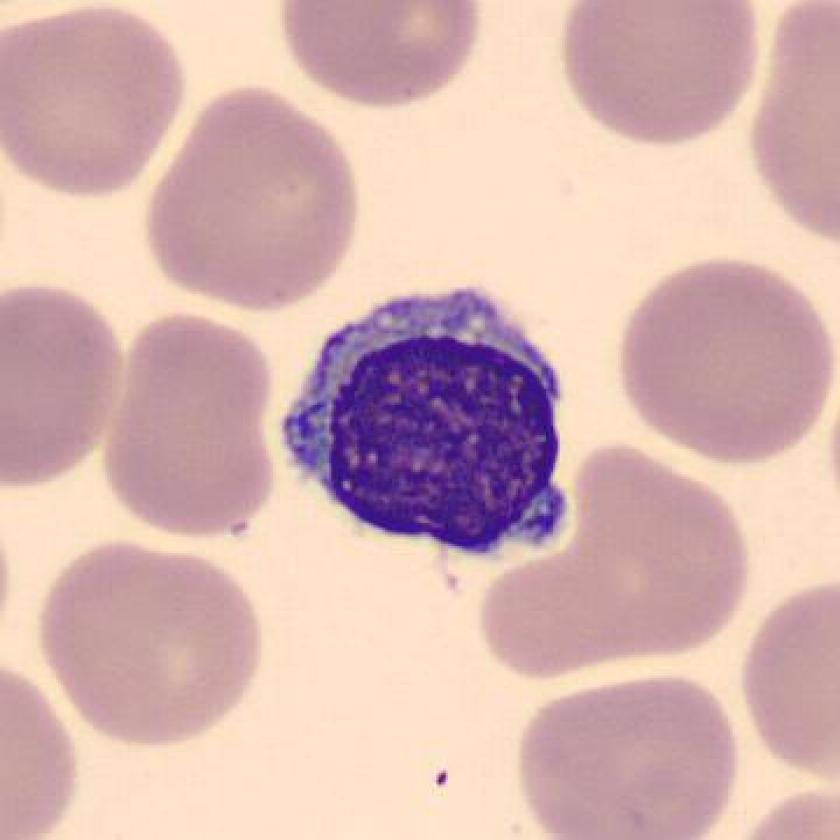lymphocyte: (265, 269, 594, 582)
